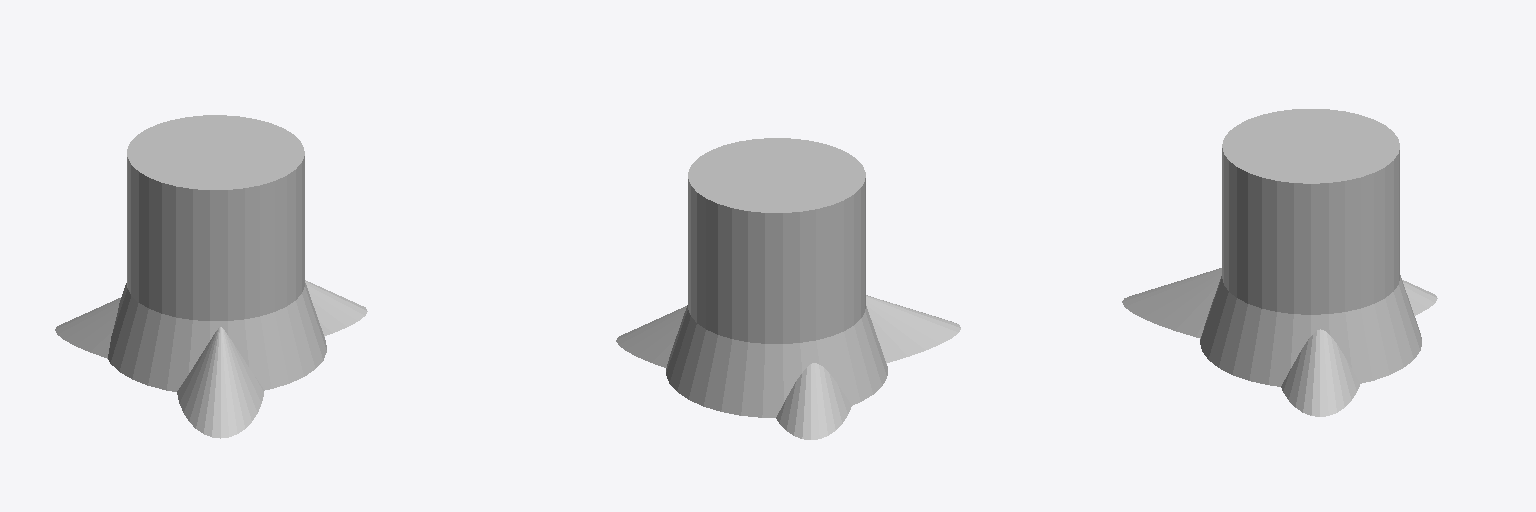
File: Stomp.obj
3 renders of one model, left to right at view 1: azimuth 30°, elevation 25°; view 2: azimuth 150°, elevation 25°; view 3: azimuth 270°, elevation 25°, orthographic.
Visible parts, largest first — view 1: Cone; view 2: Cone; view 3: Cone.
Boxes of the visible parts, box(x1,y1,x2,y2) form: Cone: box(55, 115, 367, 438); Cone: box(616, 138, 960, 439); Cone: box(1122, 109, 1437, 416).
Bounding box in the file's own units: 6.73 × 4.85 × 7.09.